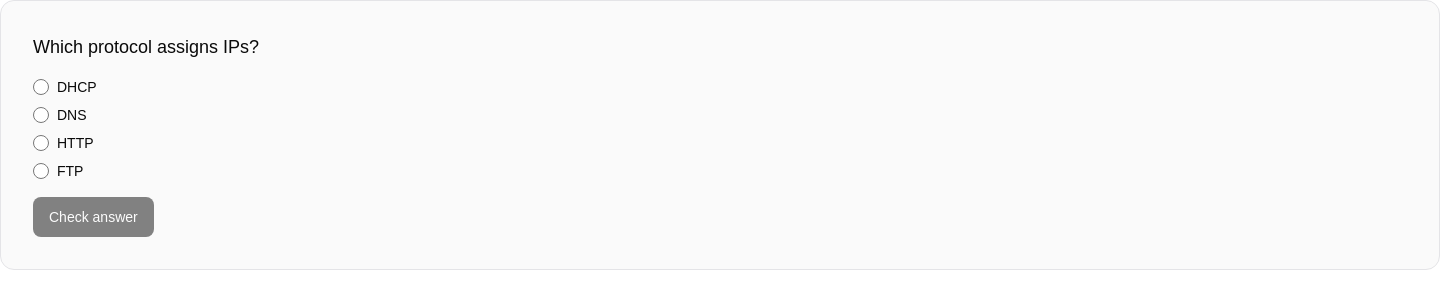
Test: QuestionCard: multiple choice › a correct choice reports correct and shows feedback
Click the radio button labelled "DHCP".
click(41, 87)  # box [33,79,49,95]
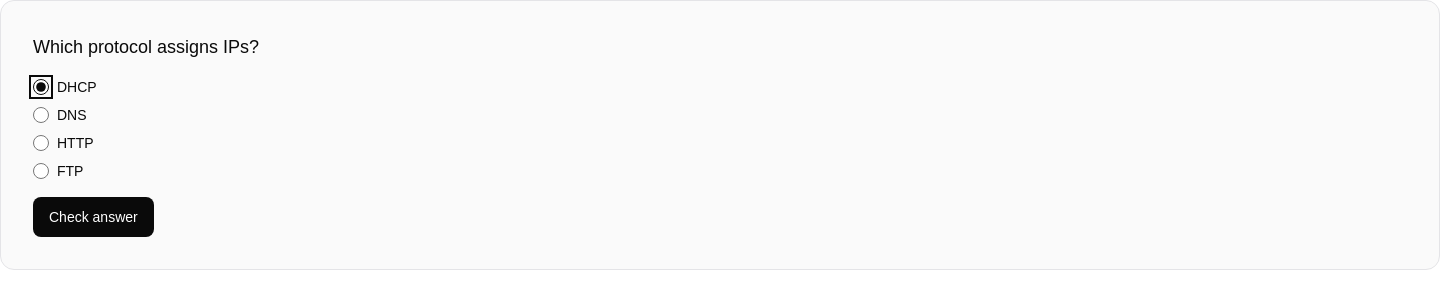
Click the button "Check answer".
click(93, 217)  # box [33,197,154,237]
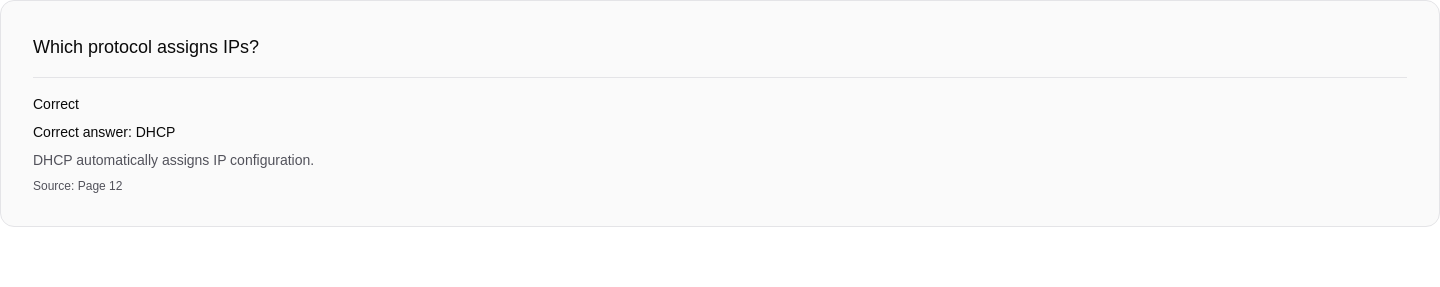
Expected: the text "Correct" is shown, [33,96,79,112]
Expected: the text "DHCP automatically assigns IP configuration." is shown, [33,152,314,168]
Expected: the text "Source: Page 12" is shown, [33,179,122,193]
